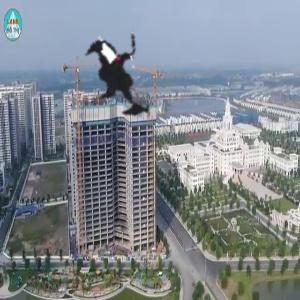drone: (56, 5, 199, 148)
